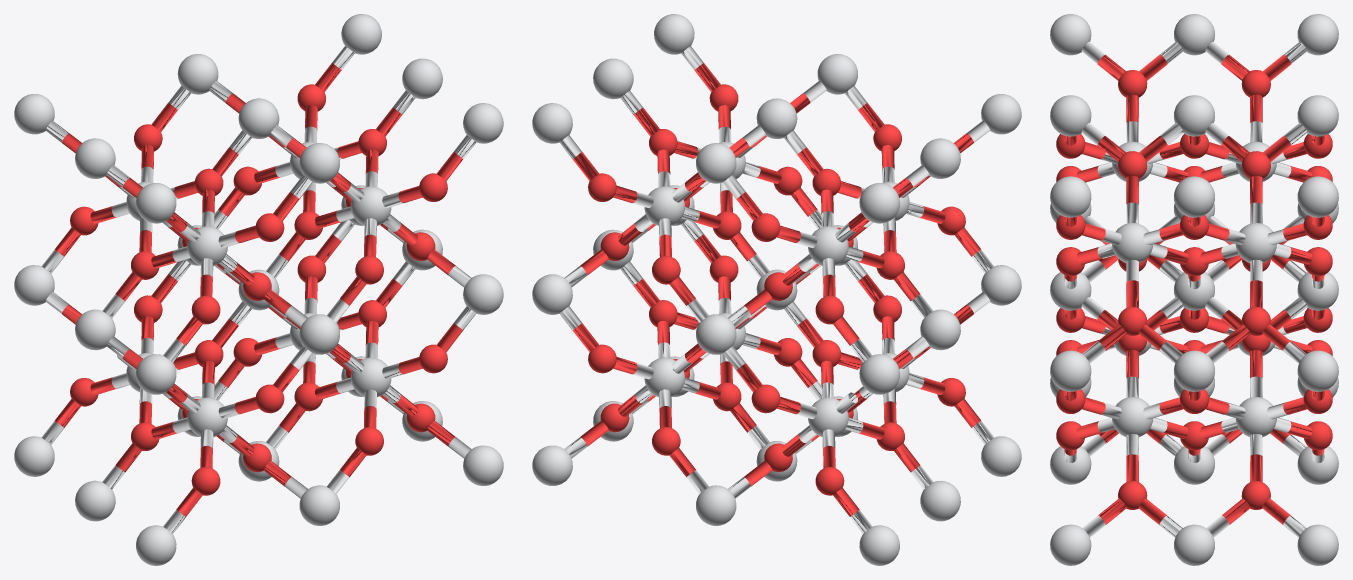
File: RutileTiO2.fbx
The picture shows the model from 3 angles, left to right: view 1: azimuth 30°, elevation 25°; view 2: azimuth 150°, elevation 25°; view 3: azimuth 270°, elevation 25°; orthographic projection.
Parts seen in each view (by area): view 1: Ti1_Atom; view 2: Ti1_Atom; view 3: Ti1_Atom.
Part boxes in pixels (<box>): Ti1_Atom: <box>14,14,503,565</box>; Ti1_Atom: <box>532,14,1021,565</box>; Ti1_Atom: <box>1050,14,1338,565</box>.
Bounding box in the file's own units: 527 × 527 × 357.
